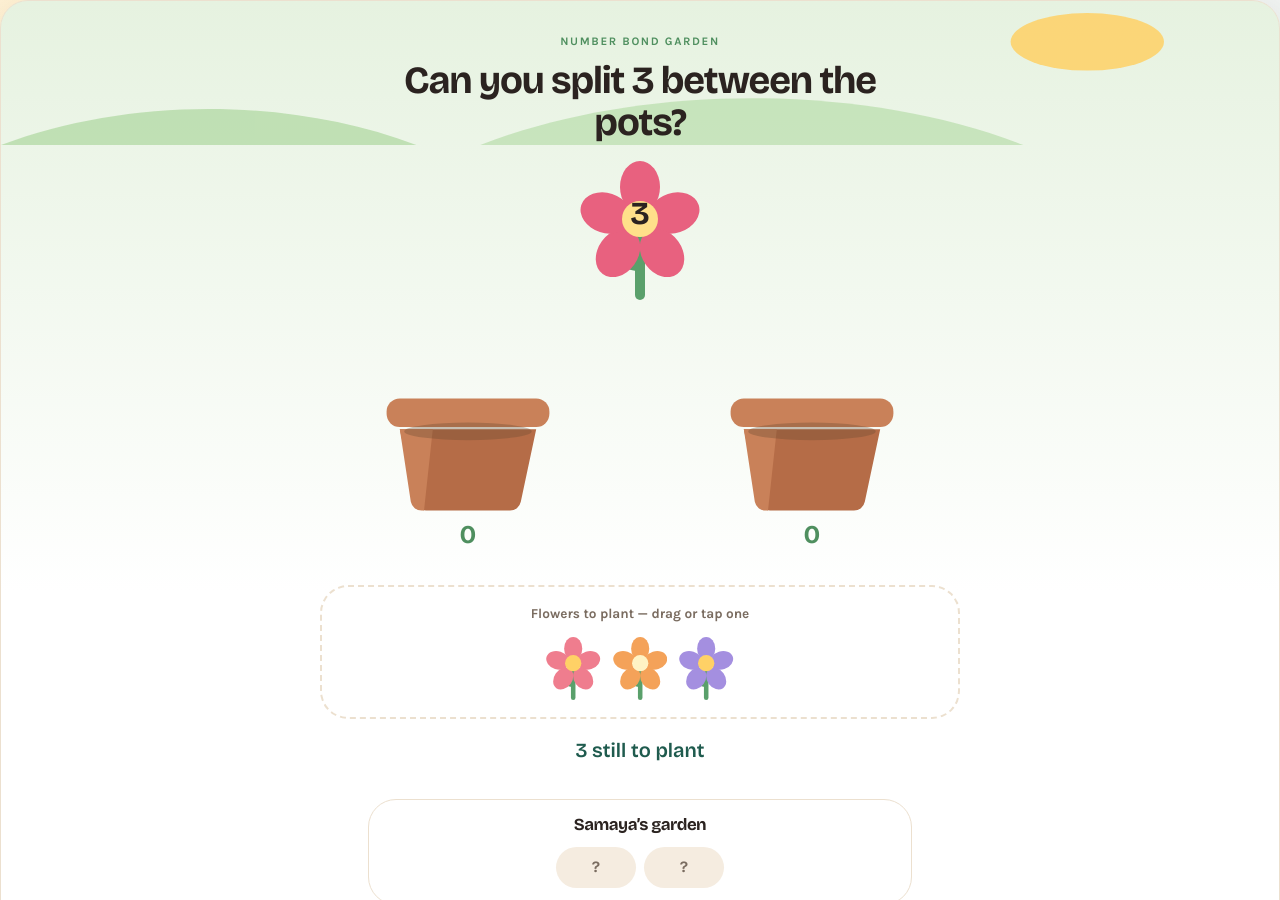
Number Bond Garden › reports every drop and records the bond once all are planted
The width and height of the screenshot is (1280, 900).
Press the mouse on the 1st button with class "tray-item" at (574, 668), box [546,636,601,701]
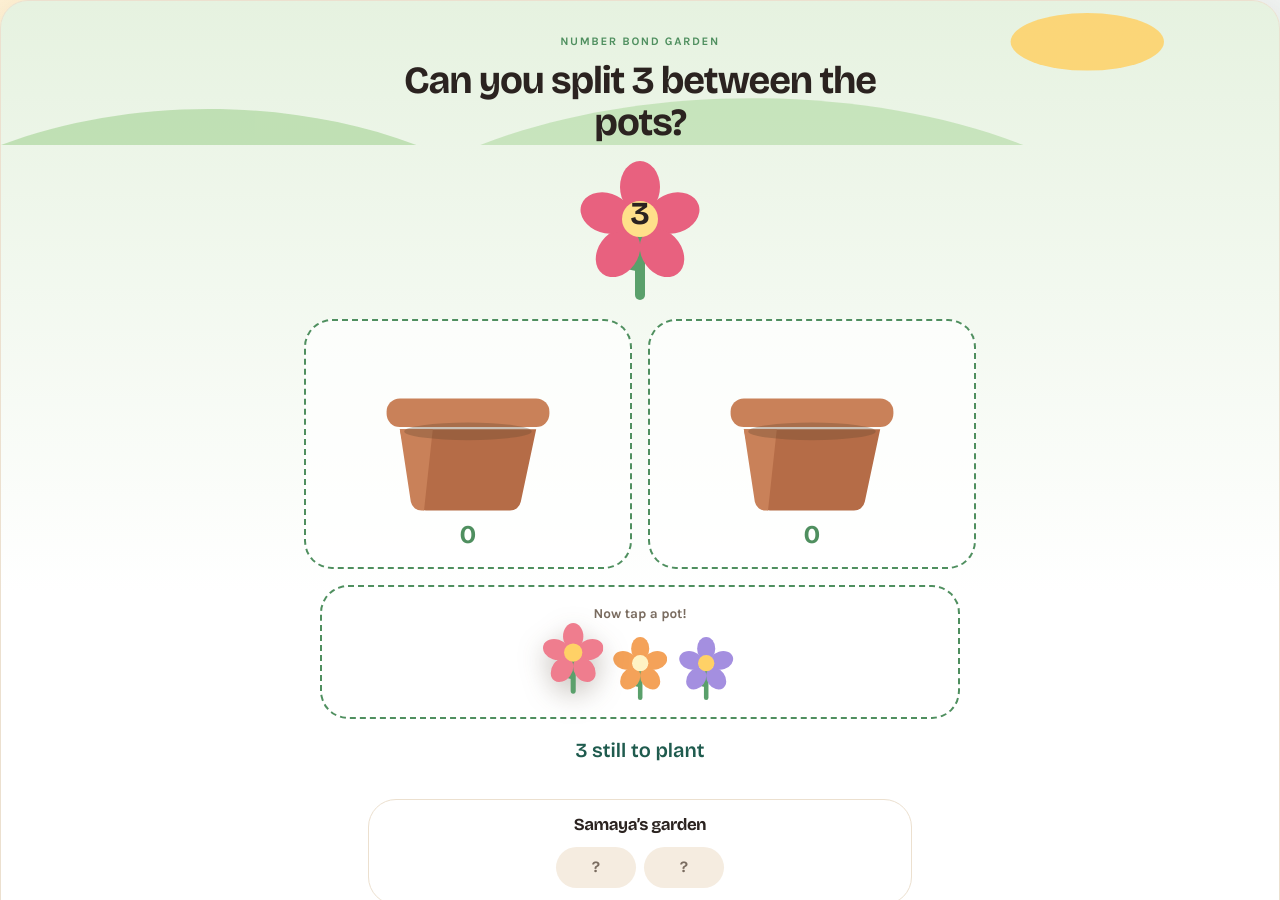
Click the 1st button "0" at (468, 444), box [304,319,632,569]
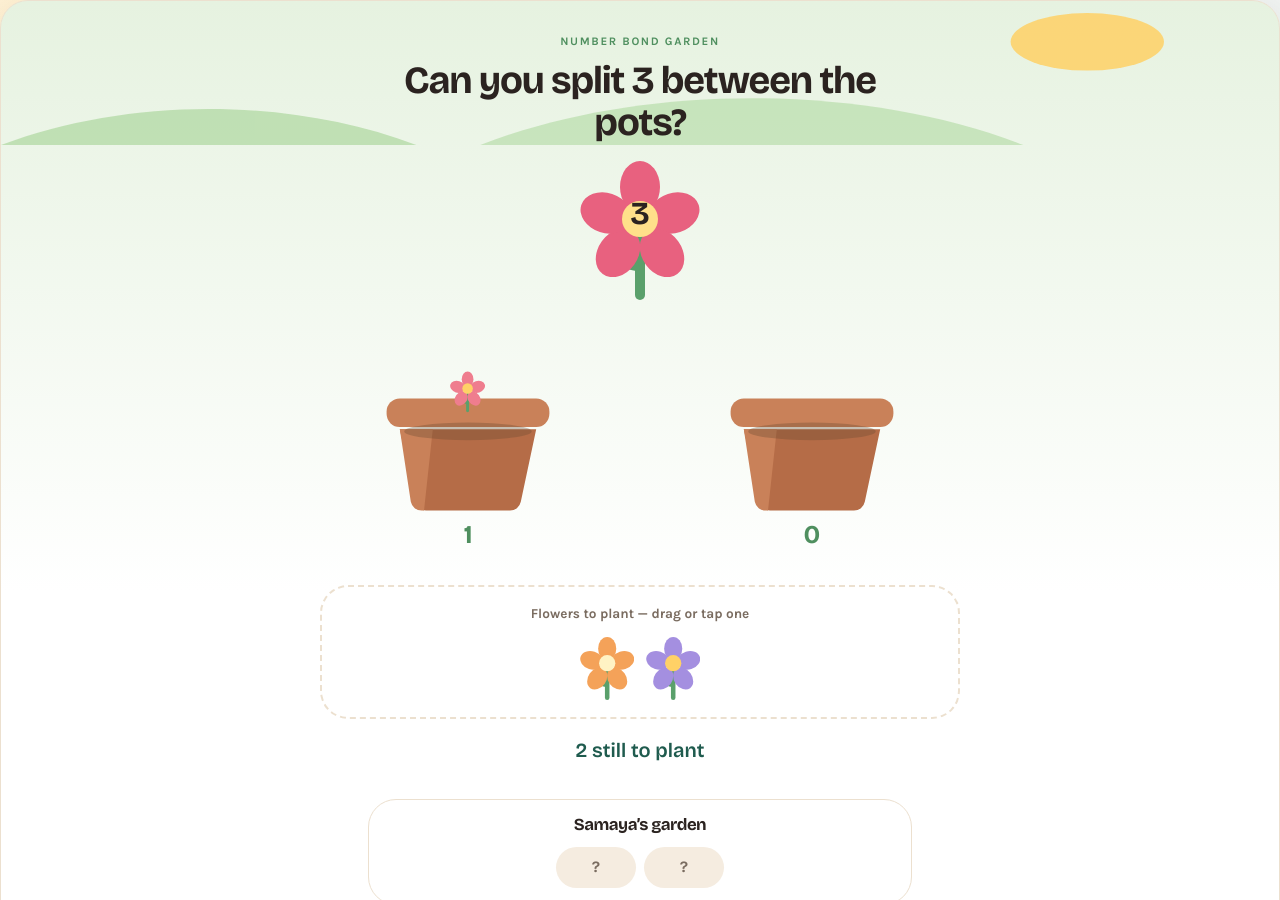
Press the mouse on the 1st button with class "tray-item" at (607, 668), box [580,636,634,701]
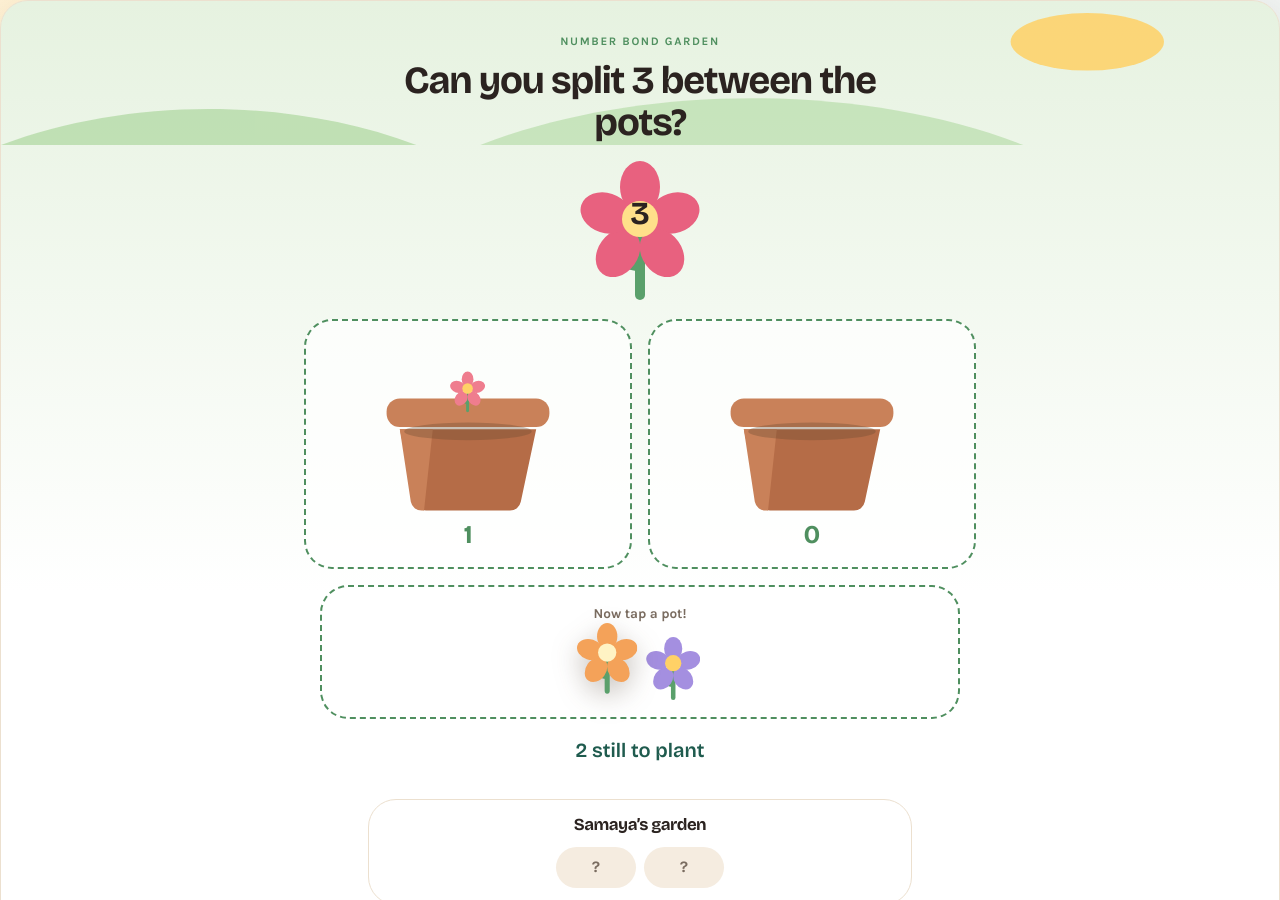
Click the button "1" at (468, 444), box [304,319,632,569]
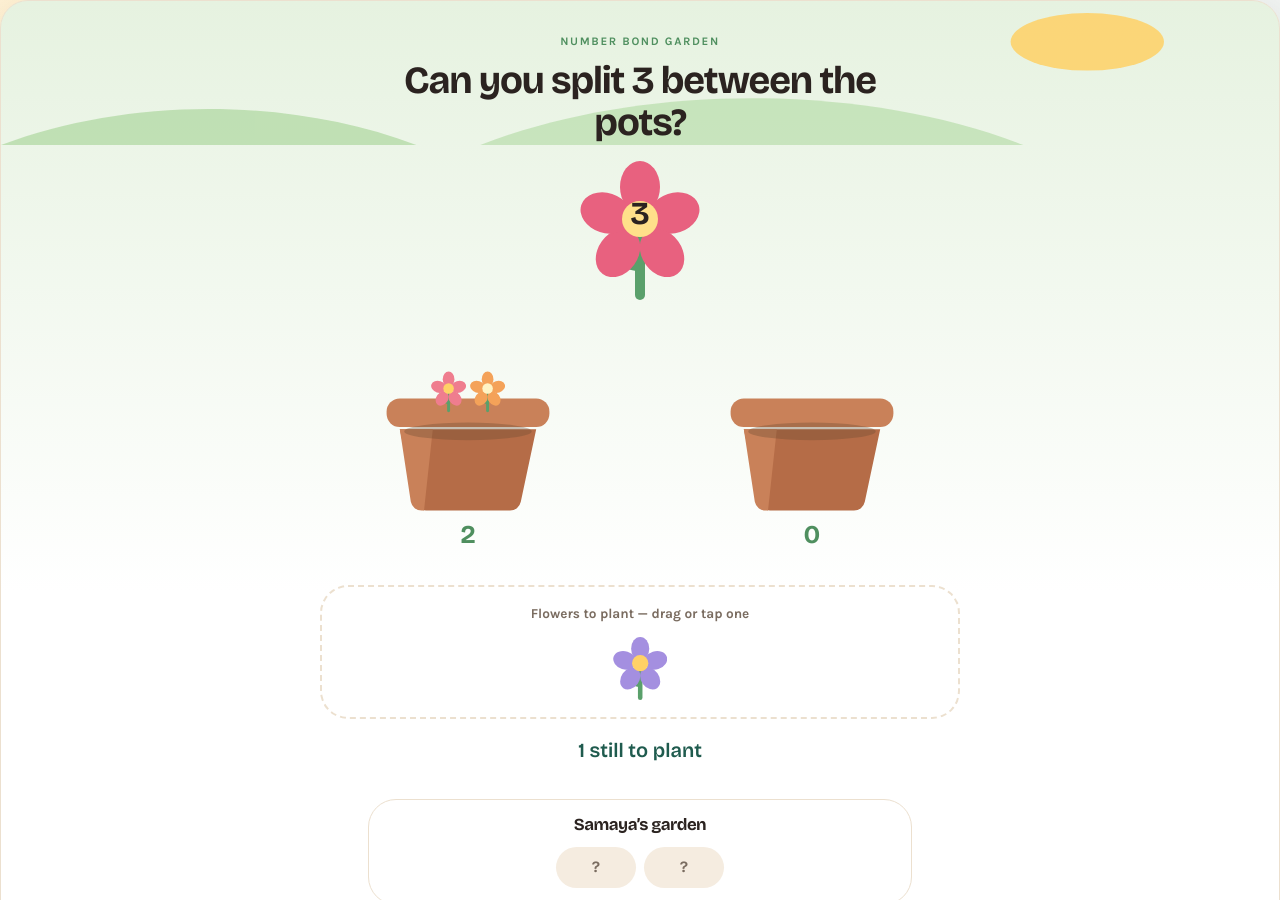
Press the mouse on the button with class "tray-item" at (640, 668), box [613,636,667,701]
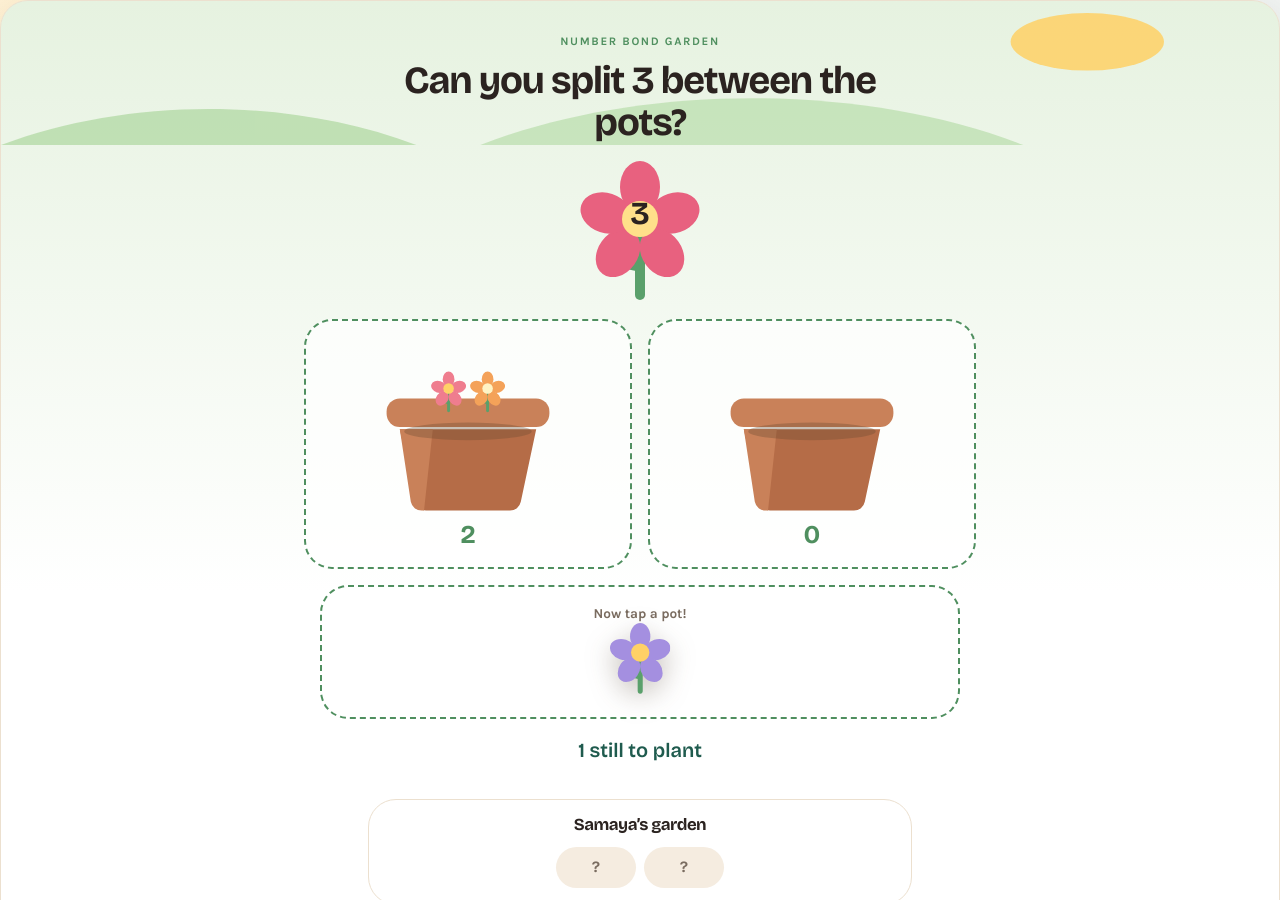
Click the button "0" at (812, 444), box [648,319,976,569]
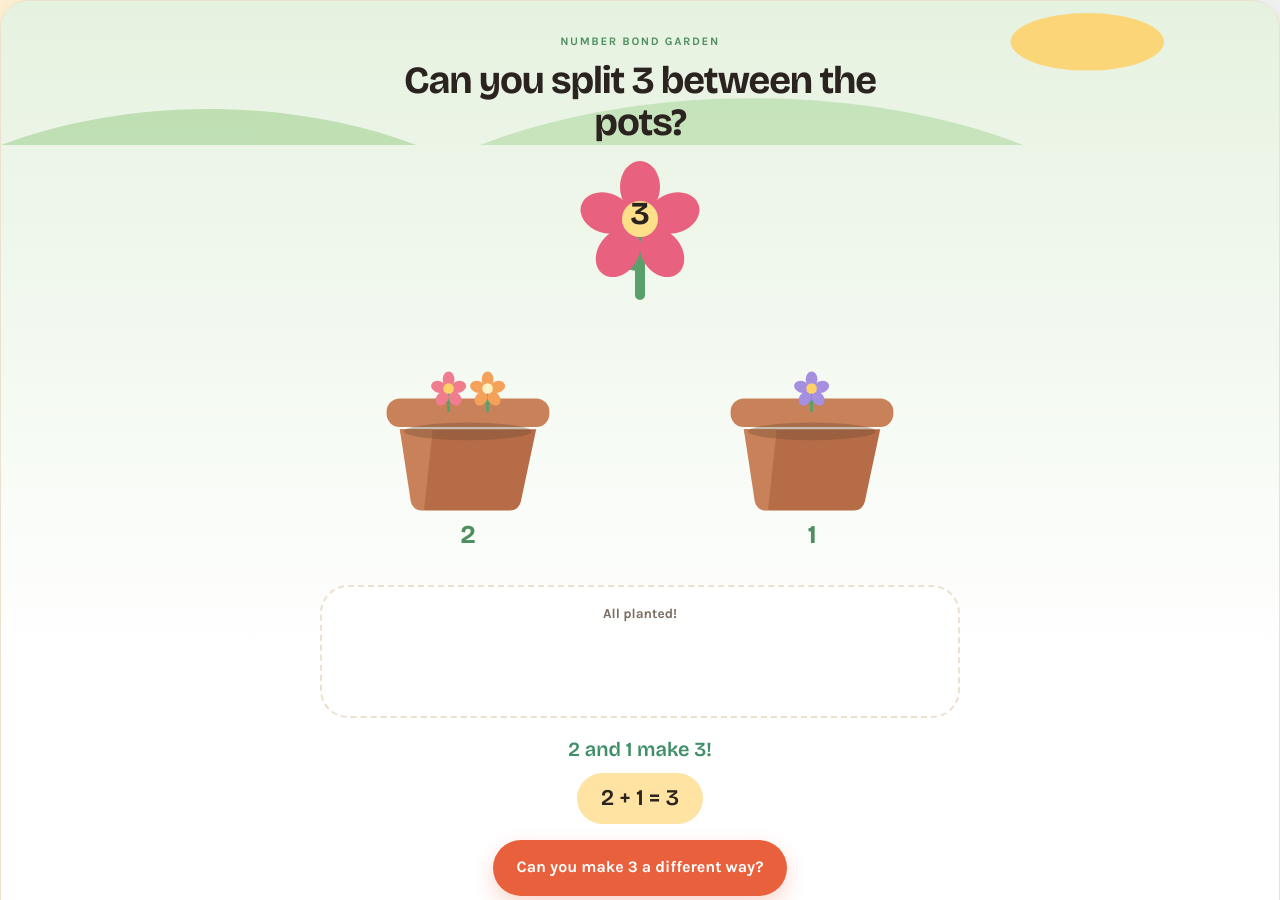
Now the text "2 and 1 make 3! 2 + 1 = 3" is shown, box [568,734,712,824]
